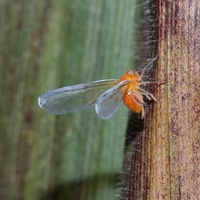insect: (38, 59, 165, 119)
